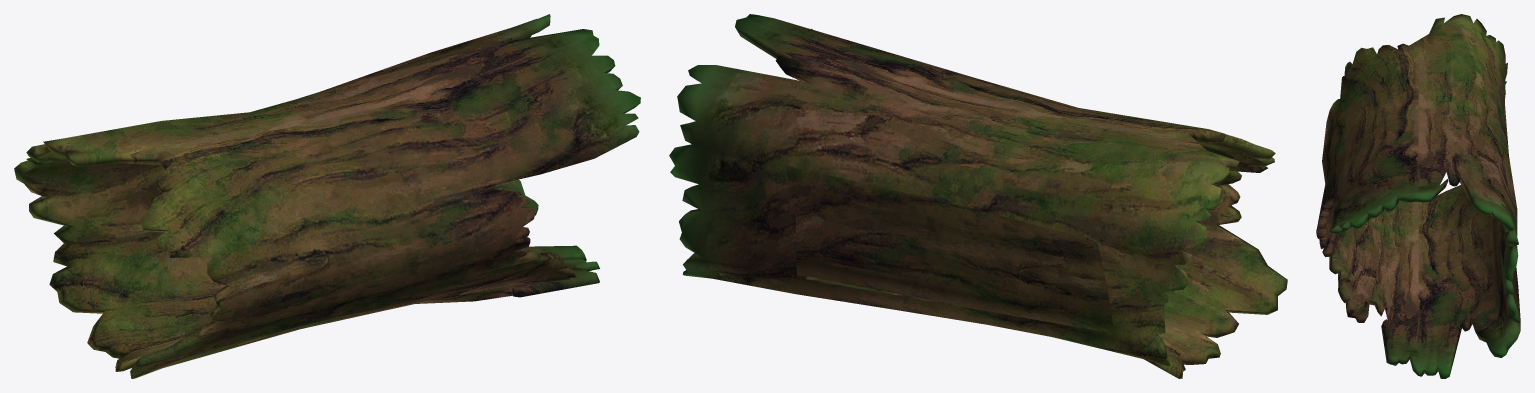
File: Stub02.fbx
3 renders of one model, left to right at view 1: azimuth 30°, elevation 25°; view 2: azimuth 150°, elevation 25°; view 3: azimuth 270°, elevation 25°, orthographic. The views are drawn at different scales.
Parts seen in each view (by area): view 1: sdgimwood01_obj; view 2: sdgimwood01_obj; view 3: sdgimwood01_obj.
Part boxes in pixels (box(x1,y1,x2,y2)): sdgimwood01_obj: box(14, 14, 640, 378); sdgimwood01_obj: box(669, 14, 1287, 378); sdgimwood01_obj: box(1316, 14, 1520, 378).
Bounding box in the file's own units: 4.39 × 1.89 × 1.96.
